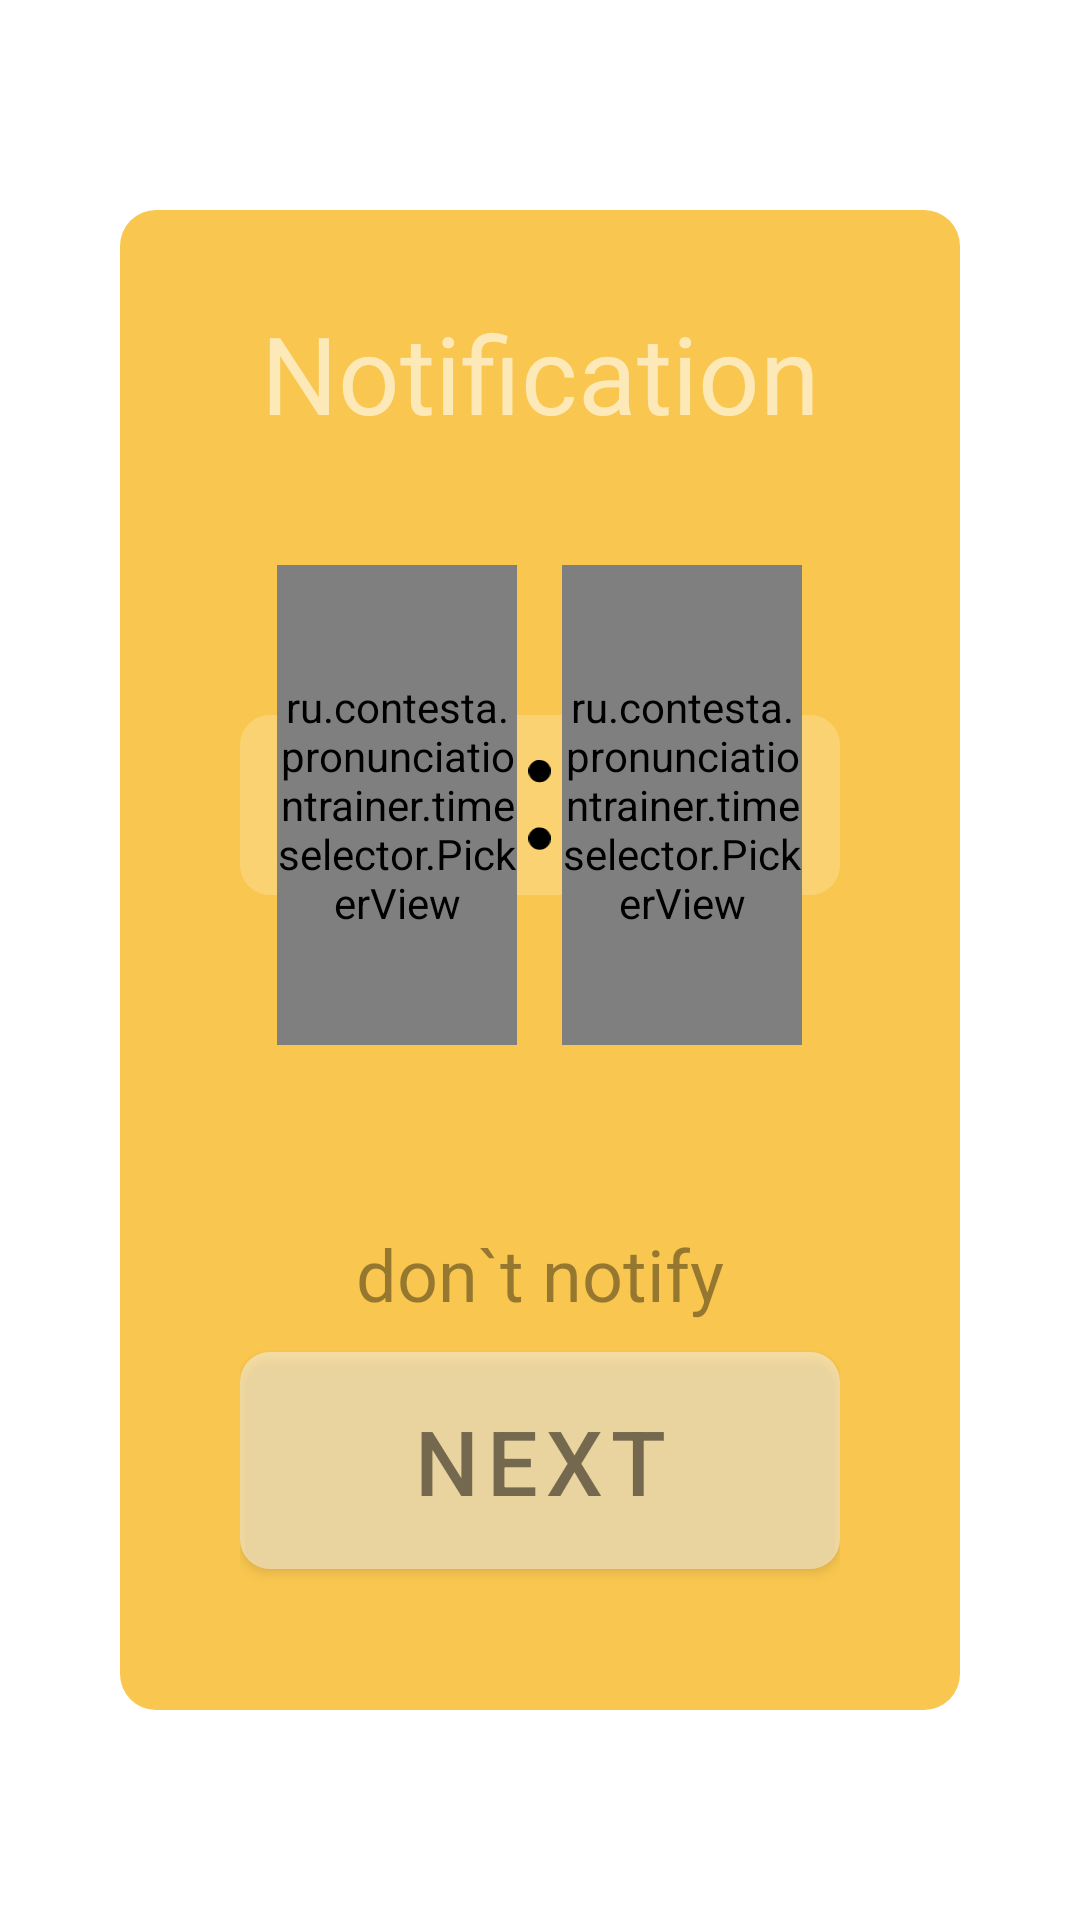

Where icons sit on this 1080x1920 app screen, as (x1, y1, x2, y2):
colon: (528, 760, 551, 850)
